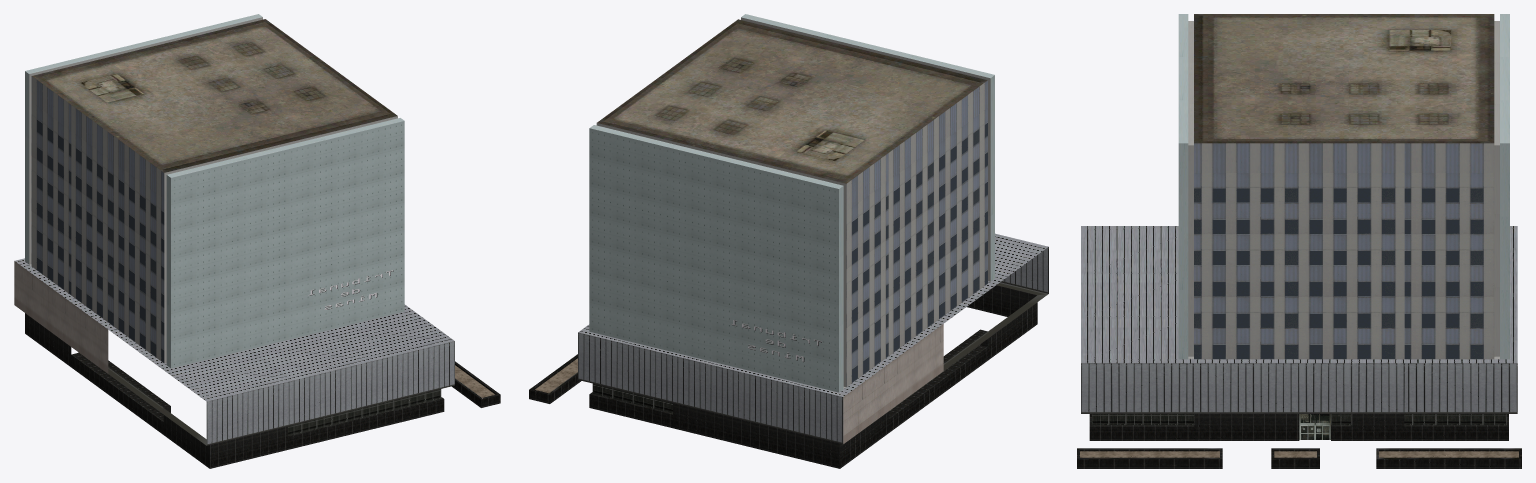
The model's file is courthse_vgn.obj.
The picture shows the model from 3 angles, left to right: view 1: azimuth 30°, elevation 25°; view 2: azimuth 150°, elevation 25°; view 3: azimuth 270°, elevation 25°; orthographic projection. The views are drawn at different scales.
Parts seen in each view (by area): view 1: courthse_vgn; view 2: courthse_vgn; view 3: courthse_vgn.
Boxes of the visible parts, <box> form: courthse_vgn: <box>14,14,500,468</box>; courthse_vgn: <box>529,14,1048,468</box>; courthse_vgn: <box>1077,14,1521,468</box>.
Bounding box in the file's own units: 68.79 × 58.99 × 80.
10 materials, 10 textured.
